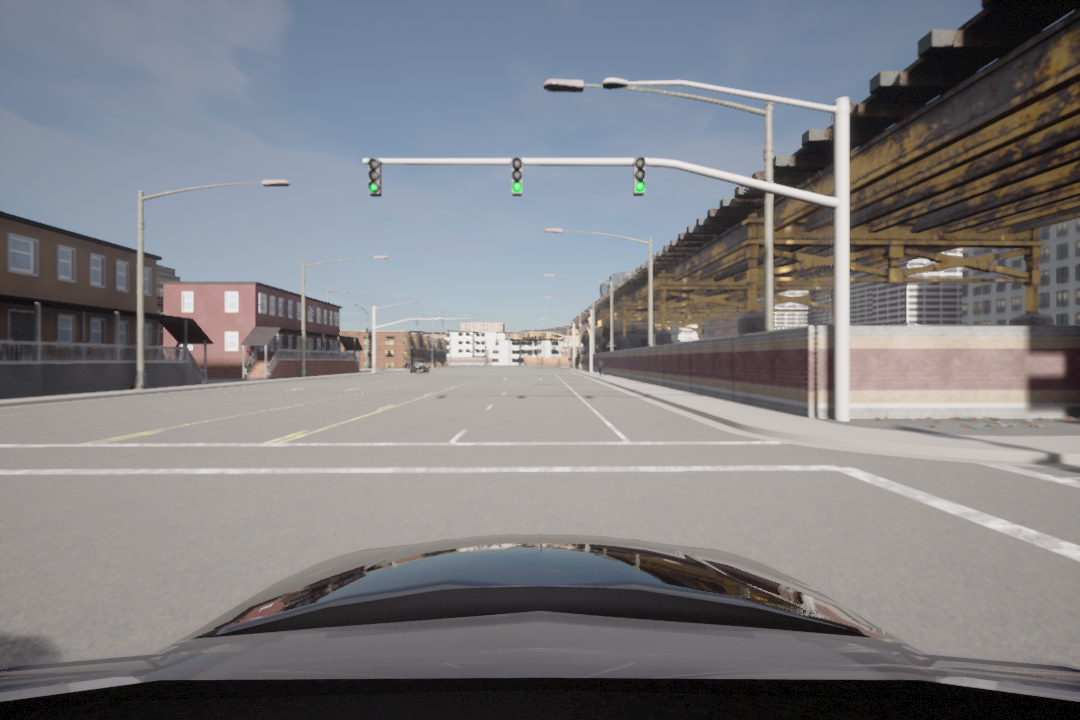TrafficLight: (504, 156, 526, 197), (364, 157, 383, 196), (631, 156, 647, 201)
